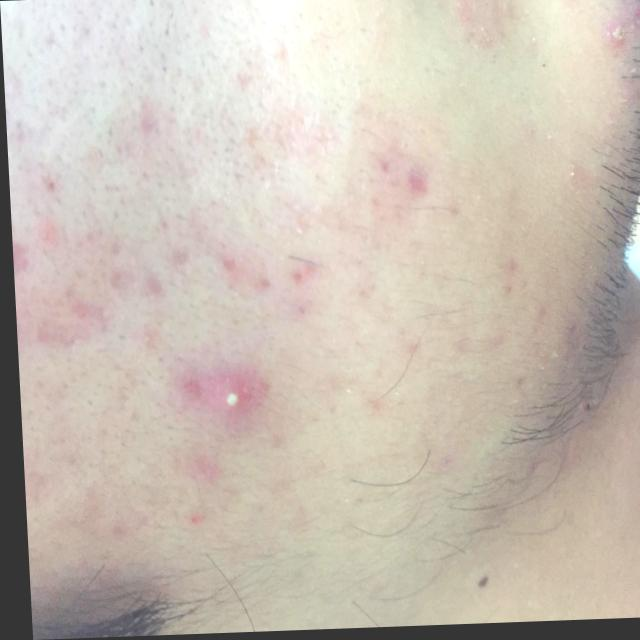blackheads: (197, 366, 257, 433)
